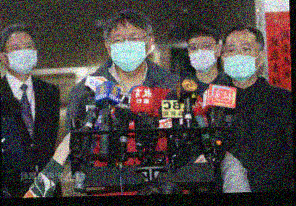with_mask: (108, 28, 148, 70), (221, 40, 259, 80), (5, 38, 36, 74), (187, 38, 217, 71)
